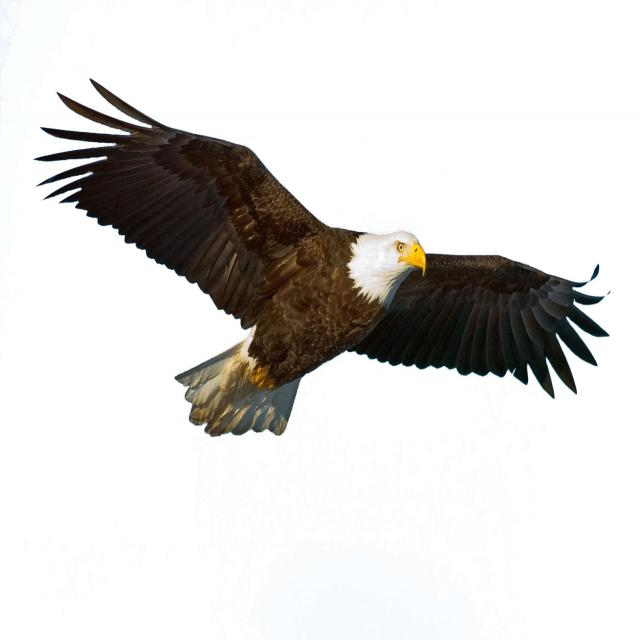Eagle: (38, 70, 608, 470)
